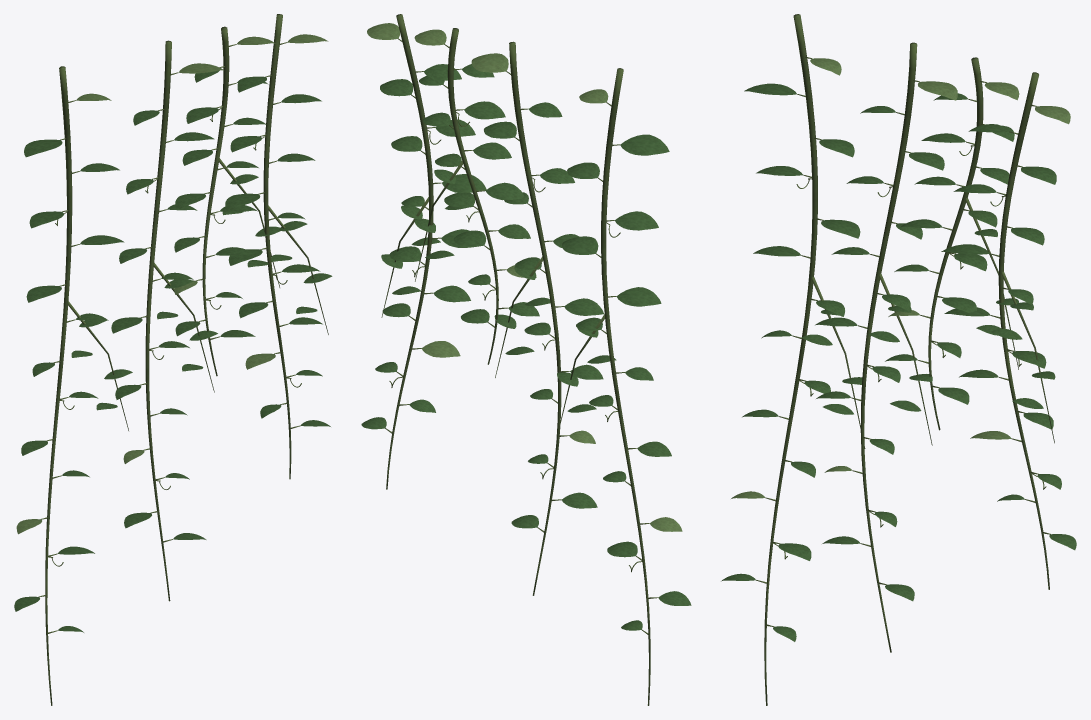
The model's file is hanging_forest_vines.glb.
The picture shows the model from 3 angles, left to right: view 1: azimuth 30°, elevation 25°; view 2: azimuth 150°, elevation 25°; view 3: azimuth 330°, elevation 25°; orthographic projection. The views are drawn at different scales.
Visible parts, largest first — view 1: forest_leaf_surface, forest_flexible_stem_surface, forest_new_leaf_surface; view 2: forest_leaf_surface, forest_flexible_stem_surface, forest_new_leaf_surface; view 3: forest_leaf_surface, forest_flexible_stem_surface, forest_new_leaf_surface.
Boxes of the visible parts, x1,y1,x2,y2 form: forest_leaf_surface: (14, 70, 332, 632); forest_flexible_stem_surface: (38, 14, 328, 705); forest_new_leaf_surface: (16, 34, 328, 534); forest_leaf_surface: (361, 64, 691, 630); forest_flexible_stem_surface: (381, 14, 658, 705); forest_new_leaf_surface: (367, 23, 682, 531); forest_leaf_surface: (721, 83, 1076, 641); forest_flexible_stem_surface: (756, 14, 1054, 705); forest_new_leaf_surface: (731, 58, 1070, 498).
Size of the model in its own units: 1.32 by 2.48 by 0.2357.
Materials: 3 (3 with a texture image).
